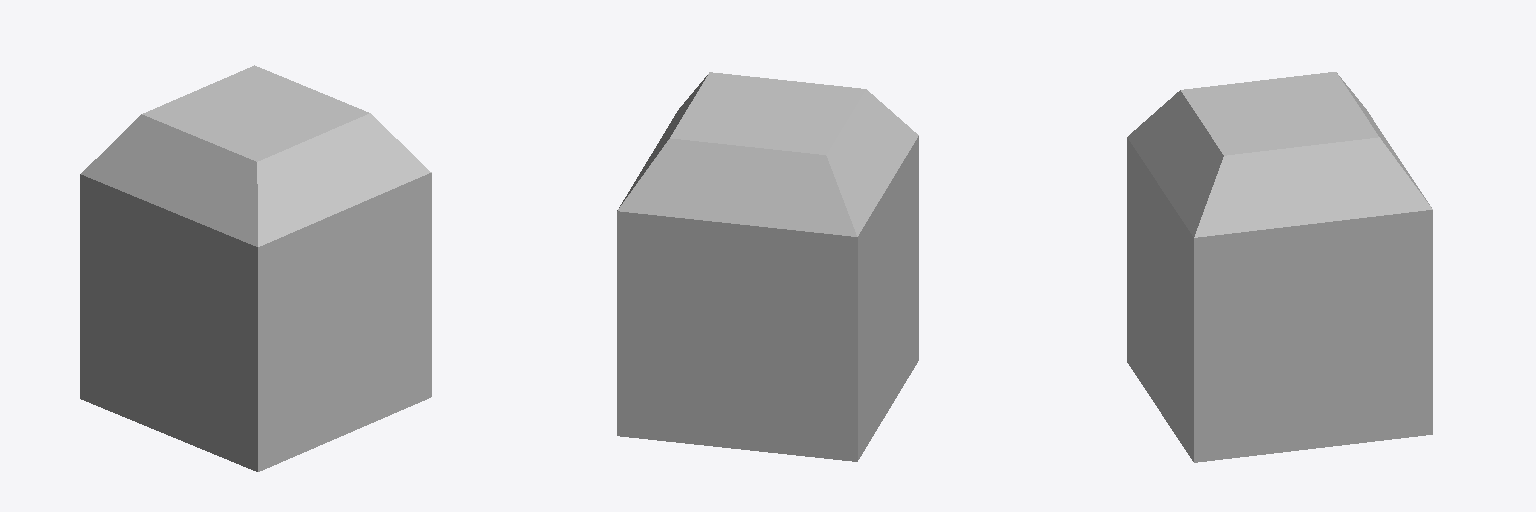
The model's file is TestCubeSPIN2.obj.
The picture shows the model from 3 angles: view 1: azimuth 30°, elevation 25°; view 2: azimuth 150°, elevation 25°; view 3: azimuth 270°, elevation 25°; orthographic projection.
Parts seen in each view (by area): view 1: Cube.001; view 2: Cube.001; view 3: Cube.001.
Part boxes in pixels (bbox=[...]): Cube.001: bbox=[80, 65, 431, 471]; Cube.001: bbox=[617, 72, 918, 461]; Cube.001: bbox=[1127, 72, 1432, 462].
Size of the model in its own units: 2.47 by 2.53 by 2.47.